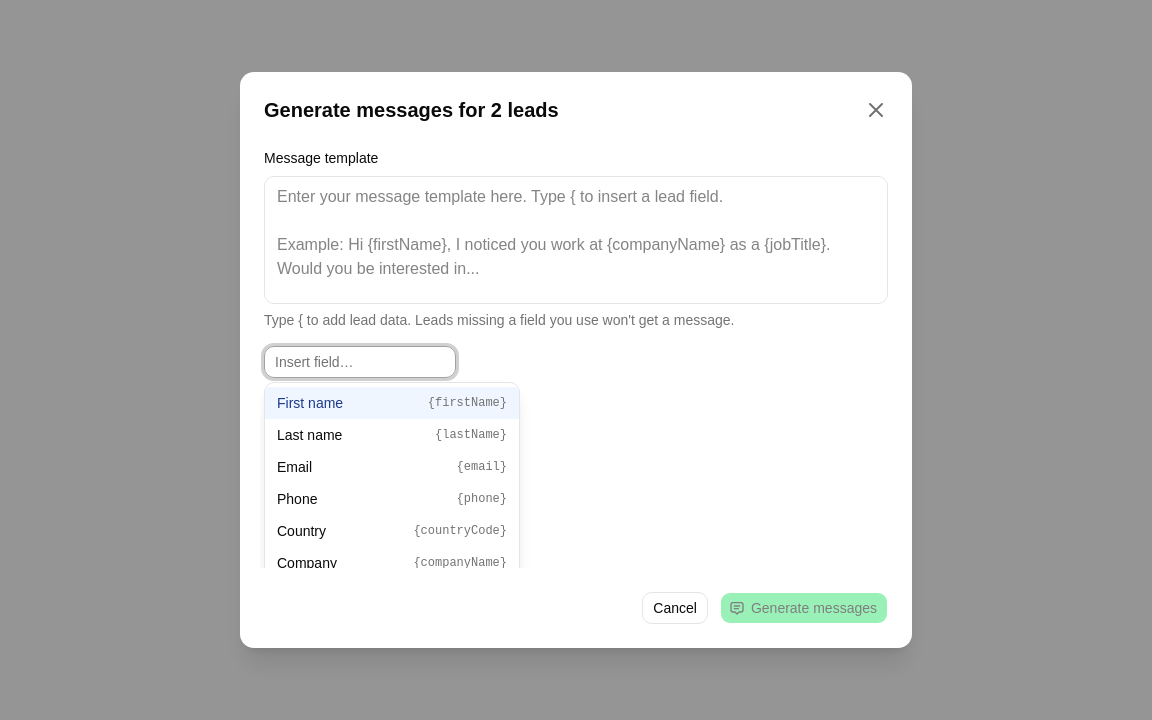
it: MessageTemplateModal › opens the options when typing straight into the closed search box
The image size is (1152, 720).
Press Escape in the dropdown named "search fields", box [264,346,456,378]
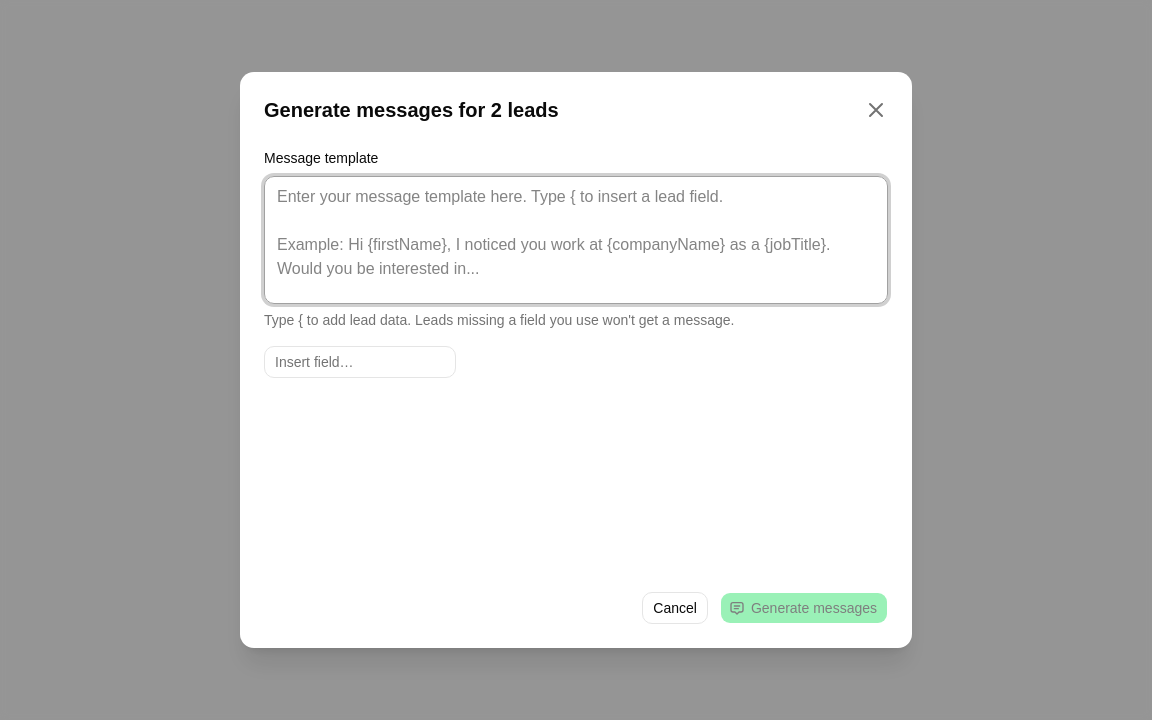
Type "comp" into the dropdown named "search fields". click: (360, 362)
box: [264,346,456,378]
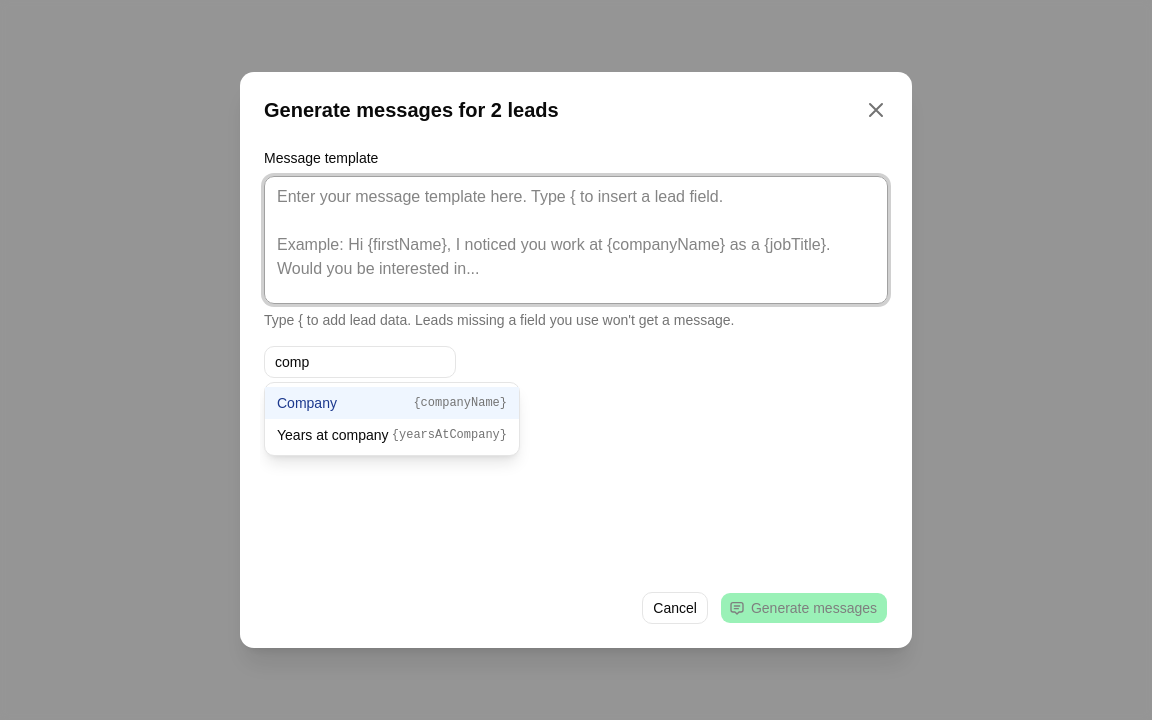
Expected: the option "Company {companyName}" is shown, [265,387,519,419]
